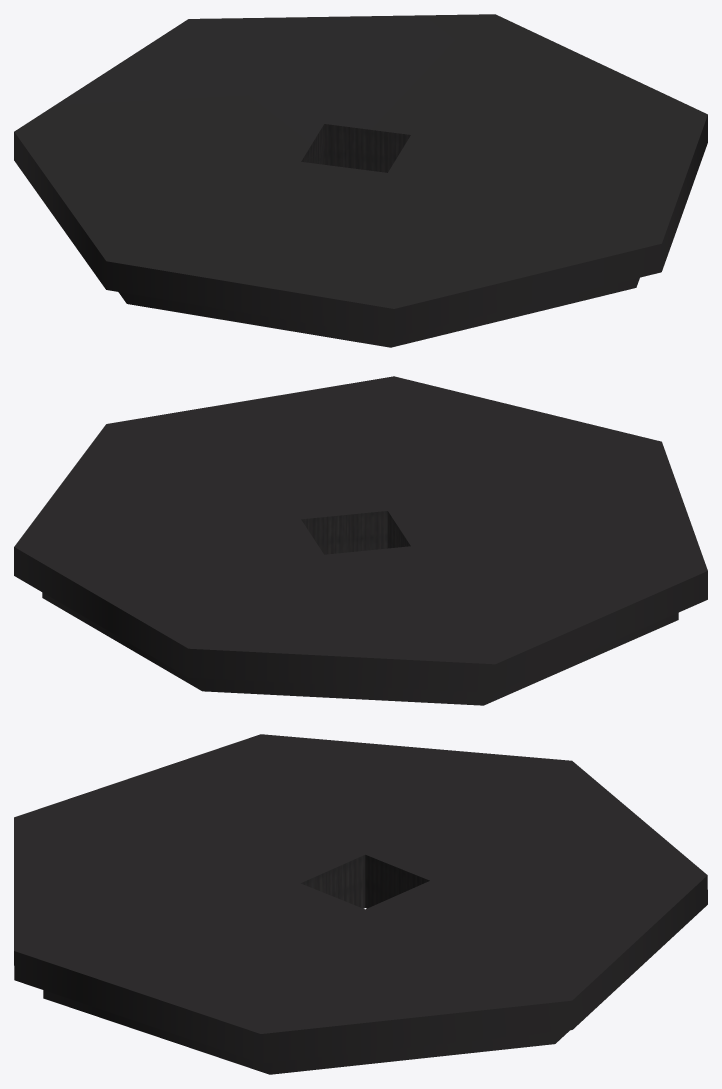
The model's file is Cylinder_124-col.glb.
The picture shows the model from 3 angles, top to bottom: view 1: azimuth 30°, elevation 25°; view 2: azimuth 150°, elevation 25°; view 3: azimuth 270°, elevation 25°; orthographic projection. The views are drawn at different scales.
Visible parts, largest first — view 1: Cylinder.124-col; view 2: Cylinder.124-col; view 3: Cylinder.124-col.
Boxes of the visible parts, x1=… form: Cylinder.124-col: x1=14, y1=14, x2=707, y2=347; Cylinder.124-col: x1=14, y1=376, x2=707, y2=705; Cylinder.124-col: x1=14, y1=734, x2=707, y2=1074.
Size of the model in its own units: 0.1548 by 0.0149 by 0.1514.
Materials: 1 (1 with a texture image).
